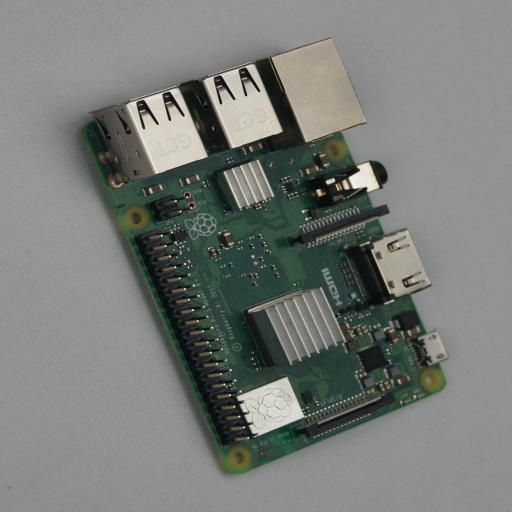Raspberry Pi 3 B-: (74, 37, 447, 475)
